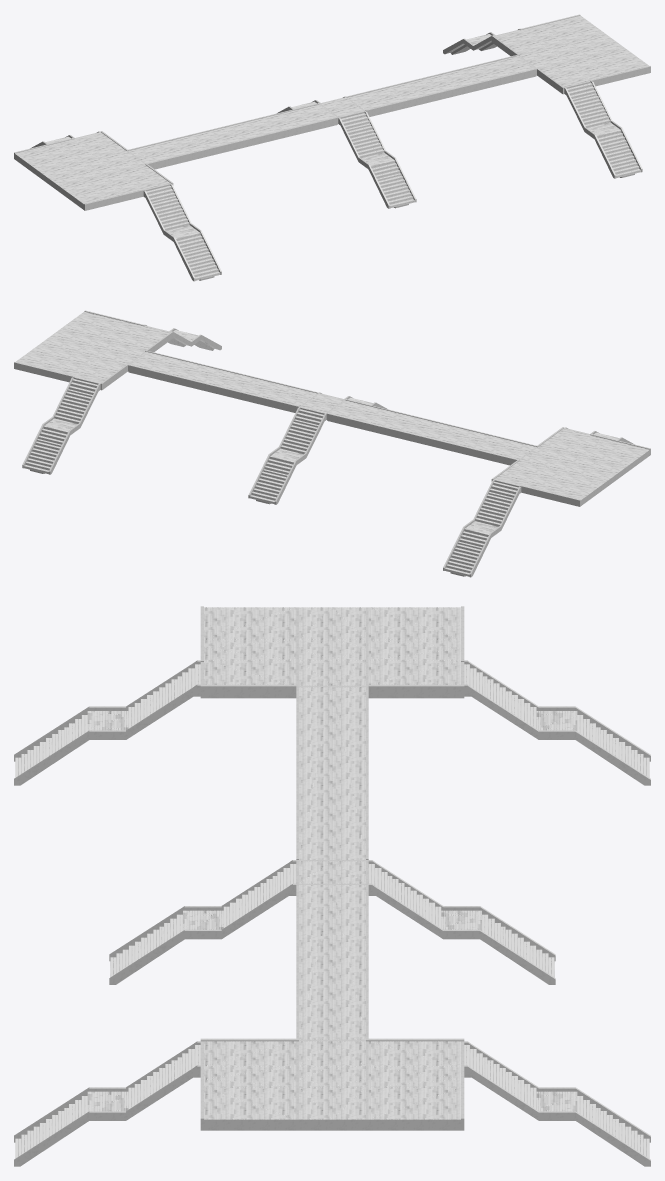
The model's file is Bridge_A_001.fbx.
3 renders of one model, top to bottom at view 1: azimuth 30°, elevation 25°; view 2: azimuth 150°, elevation 25°; view 3: azimuth 270°, elevation 25°, orthographic. The views are drawn at different scales.
Parts seen in each view (by area): view 1: Bridge_A_001; view 2: Bridge_A_001; view 3: Bridge_A_001.
Part boxes in pixels (x1,y1,x2,y2): Bridge_A_001: (14,14,650,281); Bridge_A_001: (14,310,650,577); Bridge_A_001: (14,606,650,1166).
Size of the model in its own units: 4724 by 452 by 2483.
Materials: 4 (4 with a texture image).
